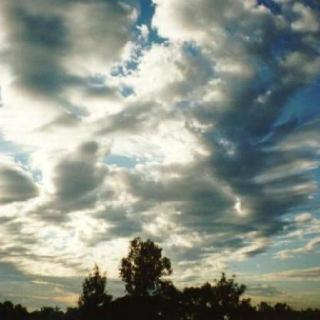Stratocumulus: (0, 0, 320, 288)
